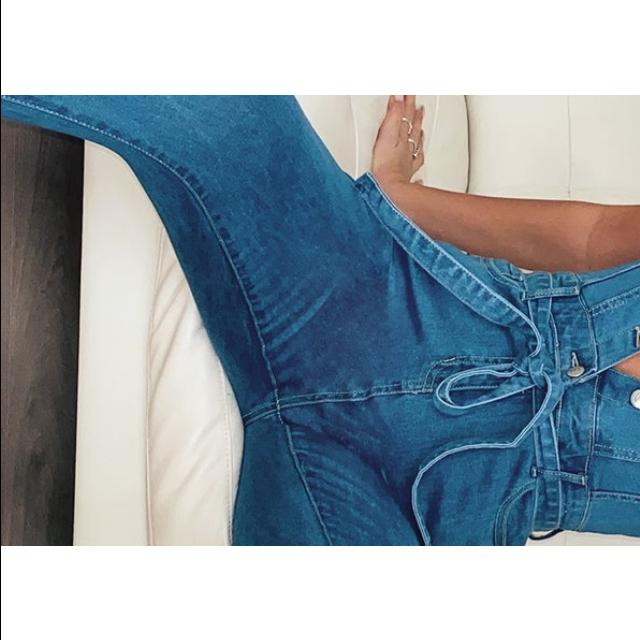denim: (216, 225, 640, 545)
